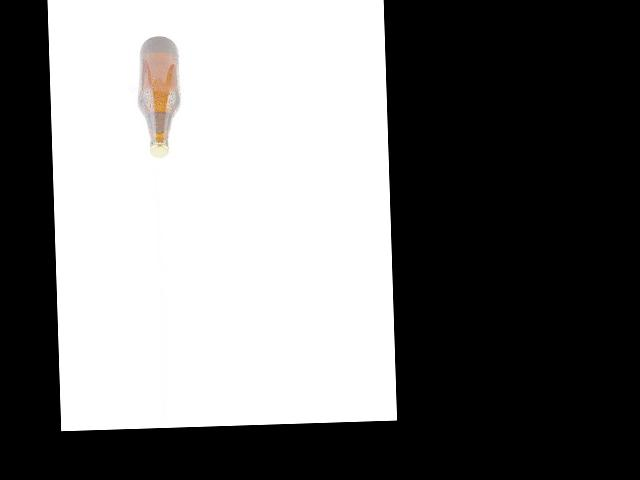beer: (138, 36, 180, 157)
